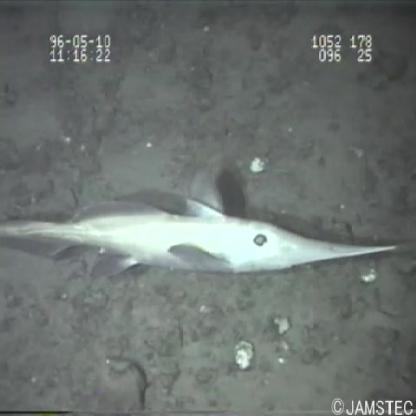Bio: (1, 170, 400, 277)
